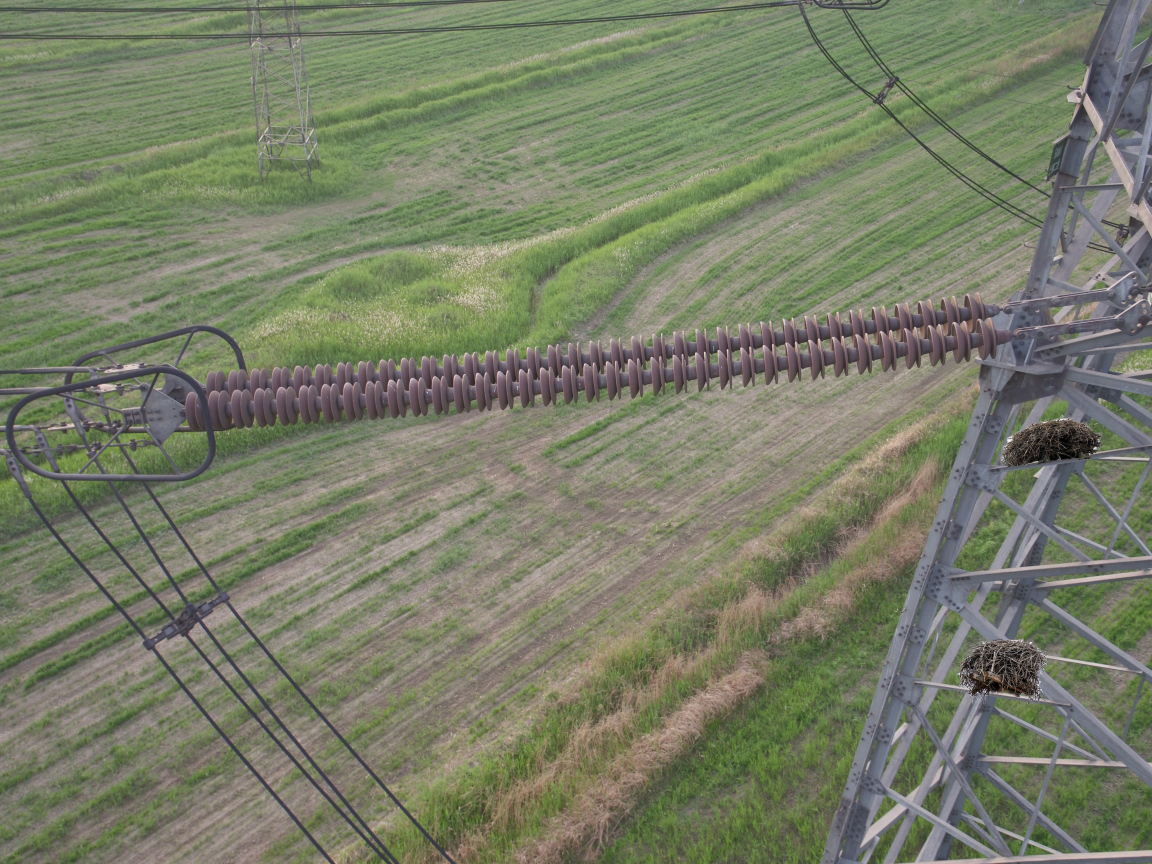nest: (955, 639, 1048, 701), (999, 419, 1106, 469)
